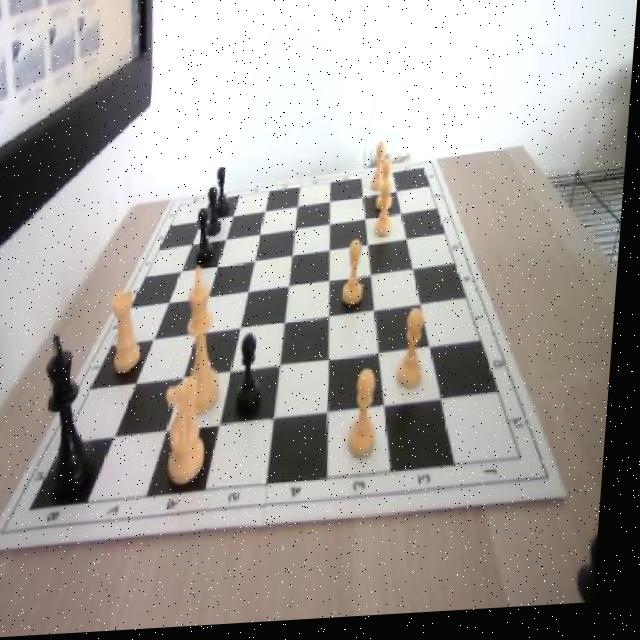black-bishop: (43, 333, 110, 500)
black-knight: (242, 334, 271, 417), (199, 212, 219, 269), (216, 170, 235, 223), (208, 189, 227, 238)
white-bishop: (187, 271, 234, 419)
white-king: (166, 381, 217, 489)
white-knight: (353, 370, 388, 461), (397, 314, 431, 398), (346, 240, 371, 310), (376, 185, 399, 242), (380, 162, 399, 216), (375, 144, 391, 195)
white-queen: (110, 289, 149, 376)
